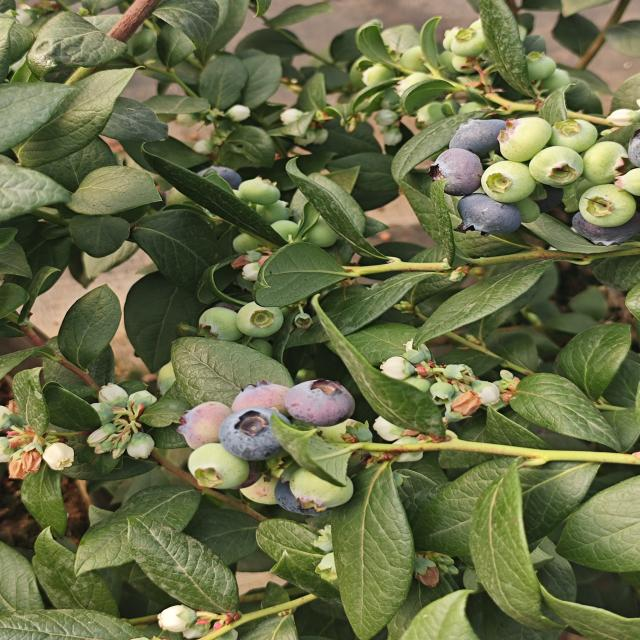ripe: (282, 376, 364, 429), (218, 408, 301, 460), (417, 140, 489, 193), (451, 195, 530, 242), (570, 207, 638, 253), (447, 110, 513, 156), (270, 473, 332, 519), (188, 163, 248, 192)
